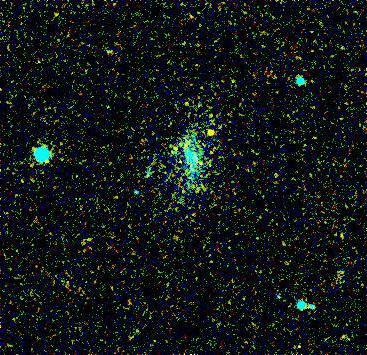star: (194, 116, 224, 146)
